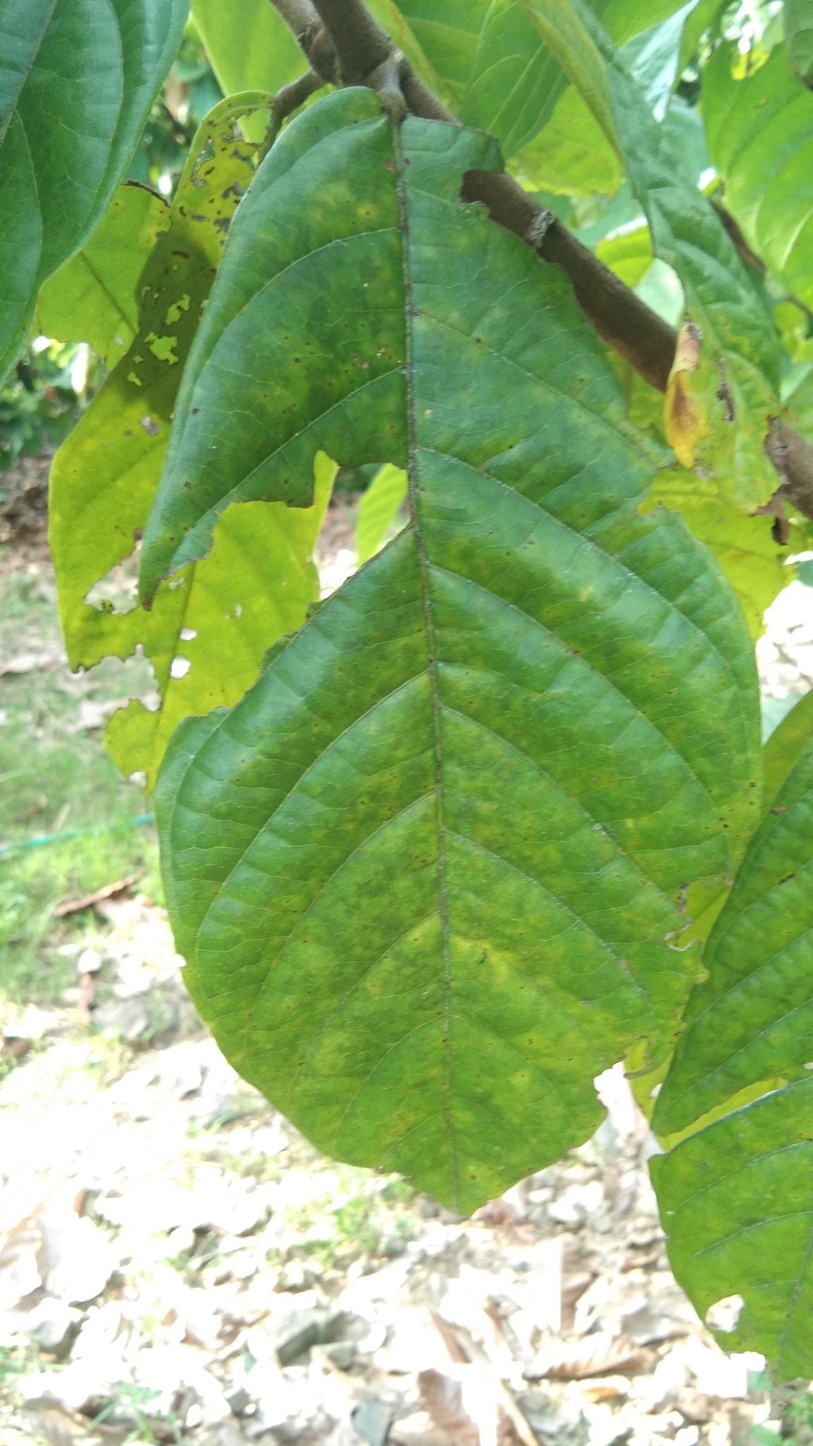Fosforo: (117, 57, 786, 1230)
